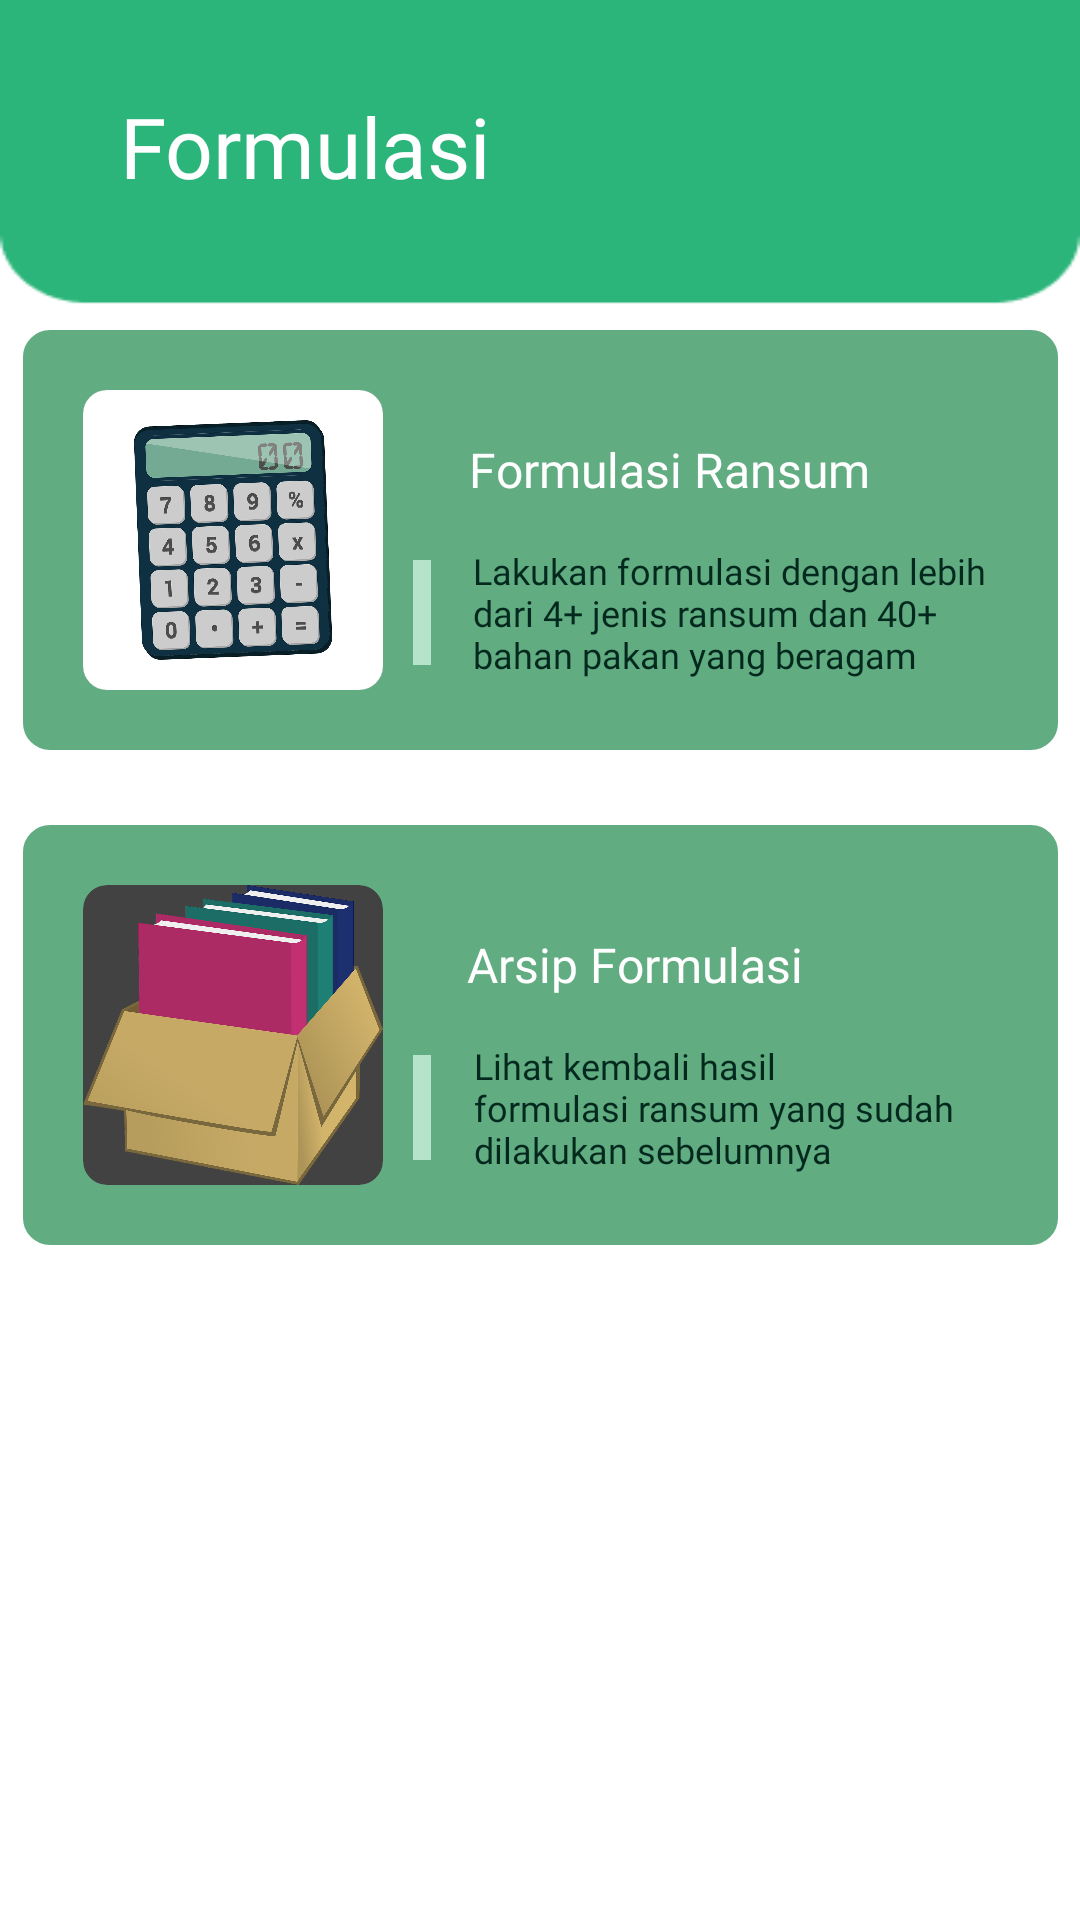

Icons on this 1080px×1920px Android screen, each with the point to tap as point (x, y):
kalkulator: point (233, 540)
kotak arsip: point (233, 1035)
